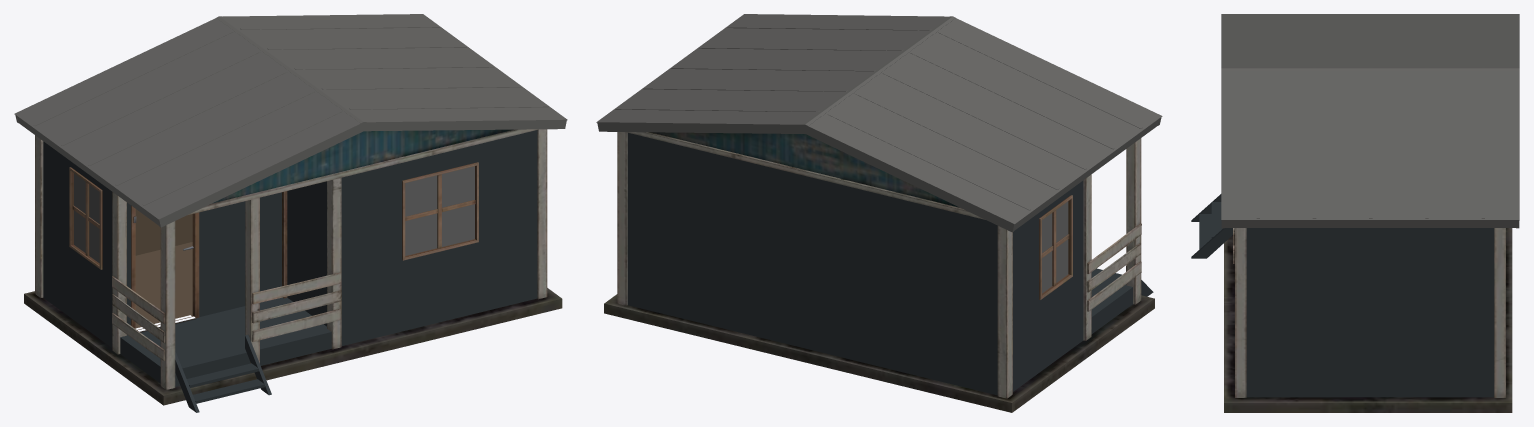
The model's file is shed.access-v3.lod0.glb.
The picture shows the model from 3 angles, left to right: view 1: azimuth 30°, elevation 25°; view 2: azimuth 150°, elevation 25°; view 3: azimuth 270°, elevation 25°; orthographic projection. The views are drawn at different scales.
Parts seen in each view (by area): view 1: Main_Exterior1_0, Main_Exterior2_0, Door_Exterior4_0; view 2: Main_Exterior1_0, Main_Exterior2_0, Door_Exterior4_0; view 3: Main_Exterior1_0, Main_Exterior2_0.
Part boxes in pixels (box(x1,y1,x2,y2)): Main_Exterior1_0: box(14, 14, 567, 412); Main_Exterior2_0: box(24, 129, 562, 405); Door_Exterior4_0: box(133, 129, 538, 310); Main_Exterior1_0: box(596, 14, 1162, 395); Main_Exterior2_0: box(604, 132, 1154, 412); Door_Exterior4_0: box(626, 132, 985, 219); Main_Exterior1_0: box(1191, 14, 1519, 397); Main_Exterior2_0: box(1224, 228, 1512, 412).
Size of the model in its own units: 6 by 3.31 by 4.04.
Materials: 3 (2 with a texture image).
